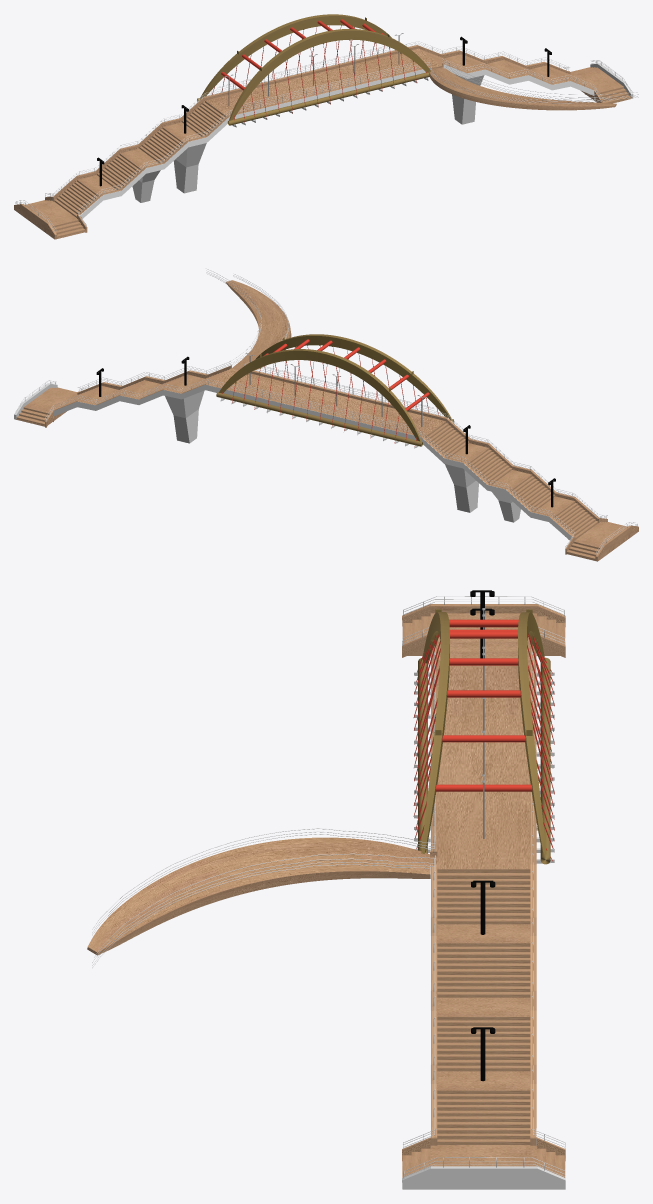
File: bridge3.glb
3 views of the same model, one above another, from view 1: azimuth 30°, elevation 25°; view 2: azimuth 150°, elevation 25°; view 3: azimuth 270°, elevation 25° (orthographic). The views are drawn at different scales.
Visible parts, largest first — view 1: Cube.425, Cube.517, Cube.510, Cube.482, Cube.507, Cube.483, Cube.484, Cylinder.300, Cube.519, Cube.439, Cube.508, Cube.520 (+14 smaller); view 2: Cube.425, Cube.516, Cube.483, Cube.484, Cube.510, Cube.482, Cube.507, Cube.520, Cylinder.259, Cube.519, Cube.439, Cube.508 (+11 smaller); view 3: Cube.425, Cube.510, Cube.506, Cube.484, Cube.507, Cube.482, Cube.483, Cube.439, Cube.462, Cube.452, Cube.472, Cylinder.259 (+3 smaller).
Boxes of the visible parts, x1=… form: Cube.425: x1=205, y1=48, x2=442, y2=117; Cube.517: x1=79, y1=64, x2=595, y2=218; Cube.510: x1=429, y1=67, x2=616, y2=110; Cube.482: x1=228, y1=29, x2=430, y2=123; Cube.507: x1=45, y1=45, x2=570, y2=201; Cube.483: x1=200, y1=14, x2=391, y2=99; Cube.484: x1=77, y1=63, x2=602, y2=232; Cylinder.300: x1=227, y1=72, x2=429, y2=125; Cube.519: x1=173, y1=143, x2=206, y2=193; Cube.439: x1=570, y1=67, x2=630, y2=103; Cube.508: x1=27, y1=200, x2=85, y2=238; Cube.520: x1=452, y1=74, x2=484, y2=124; Cube.425: x1=210, y1=368, x2=446, y2=438; Cube.516: x1=53, y1=384, x2=573, y2=540; Cube.483: x1=219, y1=349, x2=421, y2=441; Cube.484: x1=77, y1=365, x2=607, y2=522; Cube.510: x1=225, y1=280, x2=291, y2=370; Cube.482: x1=255, y1=334, x2=453, y2=422; Cube.507: x1=45, y1=383, x2=575, y2=554; Cube.520: x1=165, y1=390, x2=204, y2=443; Cylinder.259: x1=216, y1=392, x2=422, y2=446; Cube.519: x1=445, y1=464, x2=478, y2=512; Cube.439: x1=16, y1=388, x2=77, y2=426; Cube.508: x1=566, y1=522, x2=625, y2=560; Cube.425: x1=436, y1=660, x2=530, y2=872; Cube.510: x1=87, y1=837, x2=435, y2=955; Cube.506: x1=402, y1=1166, x2=565, y2=1189; Cube.484: x1=402, y1=635, x2=437, y2=1160; Cube.507: x1=530, y1=635, x2=565, y2=1160; Cube.482: x1=421, y1=612, x2=449, y2=853; Cube.483: x1=518, y1=612, x2=546, y2=854; Cube.439: x1=430, y1=1145, x2=565, y2=1177; Cube.462: x1=437, y1=997, x2=530, y2=1020; Cube.452: x1=437, y1=1071, x2=530, y2=1093; Cube.472: x1=437, y1=924, x2=530, y2=946; Cylinder.259: x1=540, y1=657, x2=550, y2=864.
Bounding box in the file's own units: 48.51 × 10.52 × 17.36.
7 materials, 2 textured.
